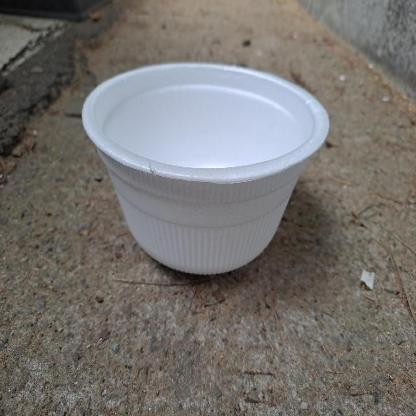Glass Cup: (81, 61, 329, 276), (82, 63, 329, 274)
